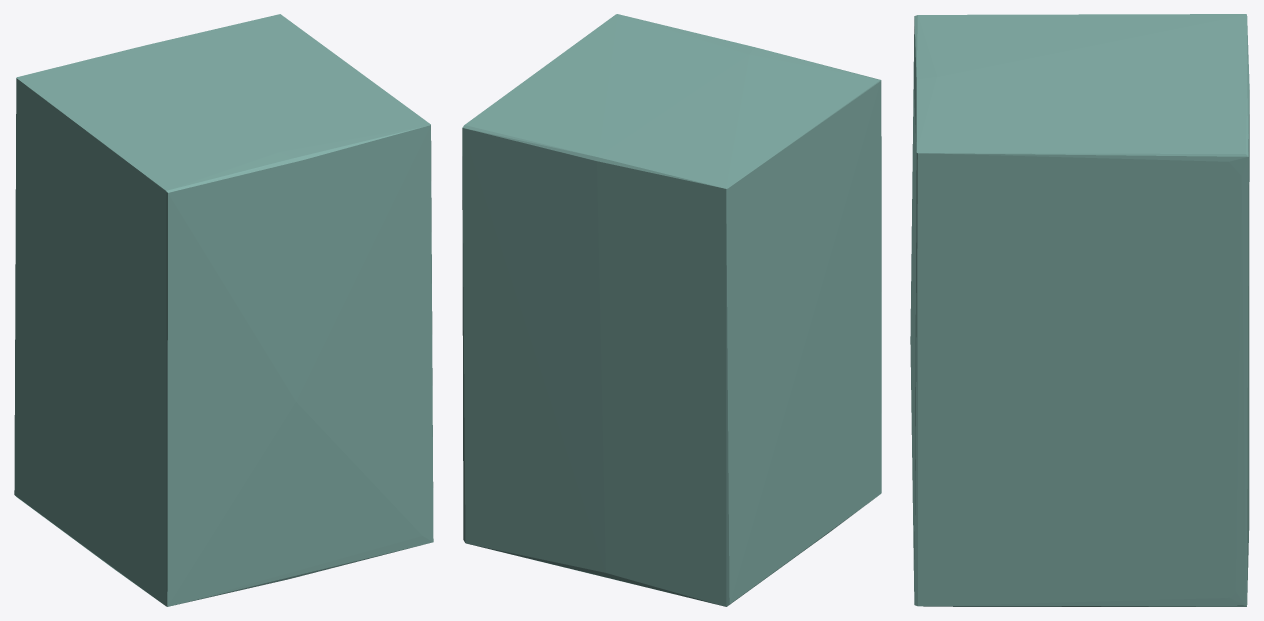
Rendered from box_multiDepth_a10.glb.
3 views of the same model, side by side, from view 1: azimuth 30°, elevation 25°; view 2: azimuth 150°, elevation 25°; view 3: azimuth 270°, elevation 25° (orthographic). The views are drawn at different scales.
Visible parts, largest first — view 1: geometry_0; view 2: geometry_0; view 3: geometry_0.
Part boxes in pixels (<box>): geometry_0: <box>14,14,433,606</box>; geometry_0: <box>462,14,881,606</box>; geometry_0: <box>910,14,1249,606</box>.
Bounding box in the file's own units: 0.319 × 0.48 × 0.3237.
